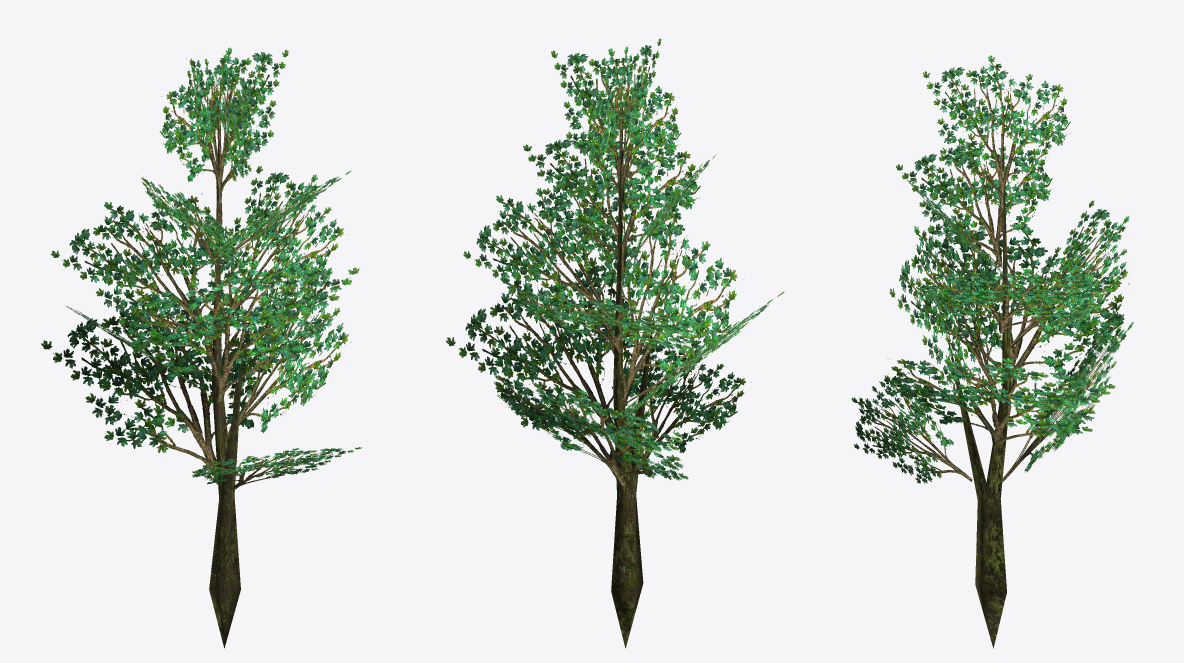
Rendered from decd_endr_maple_sm_l2.fbx.
3 renders of one model, left to right at view 1: azimuth 30°, elevation 25°; view 2: azimuth 150°, elevation 25°; view 3: azimuth 270°, elevation 25°, orthographic.
Parts seen in each view (by area): view 1: mesh_node; view 2: mesh_node; view 3: mesh_node.
Boxes of the visible parts, box(x1,y1,x2,y2) form: mesh_node: box(41, 47, 362, 648); mesh_node: box(446, 38, 784, 648); mesh_node: box(851, 55, 1133, 648).
Bounding box in the file's own units: 5.13 × 10.55 × 5.33.
